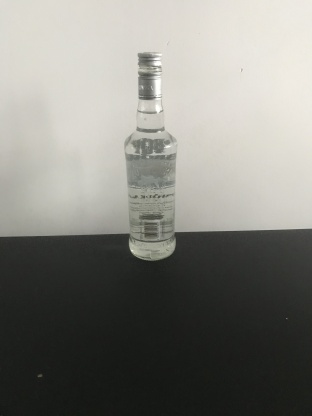nakretka: (136, 50, 163, 101)
